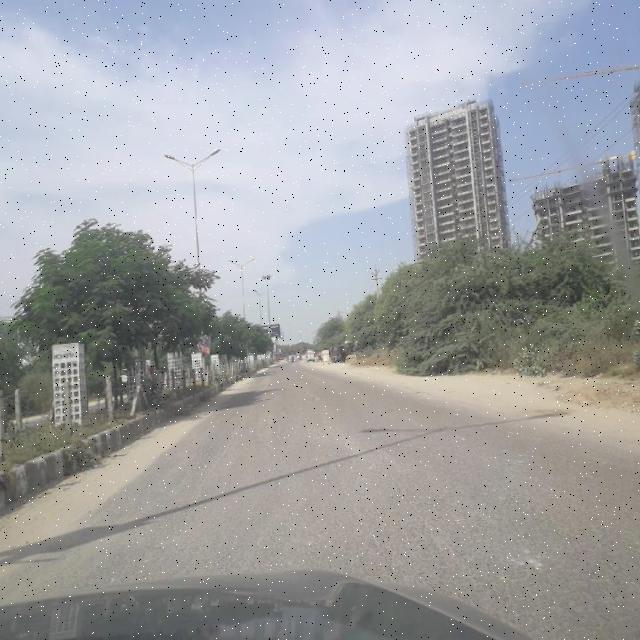D00: (182, 388, 267, 518)
D20: (71, 436, 613, 596)
